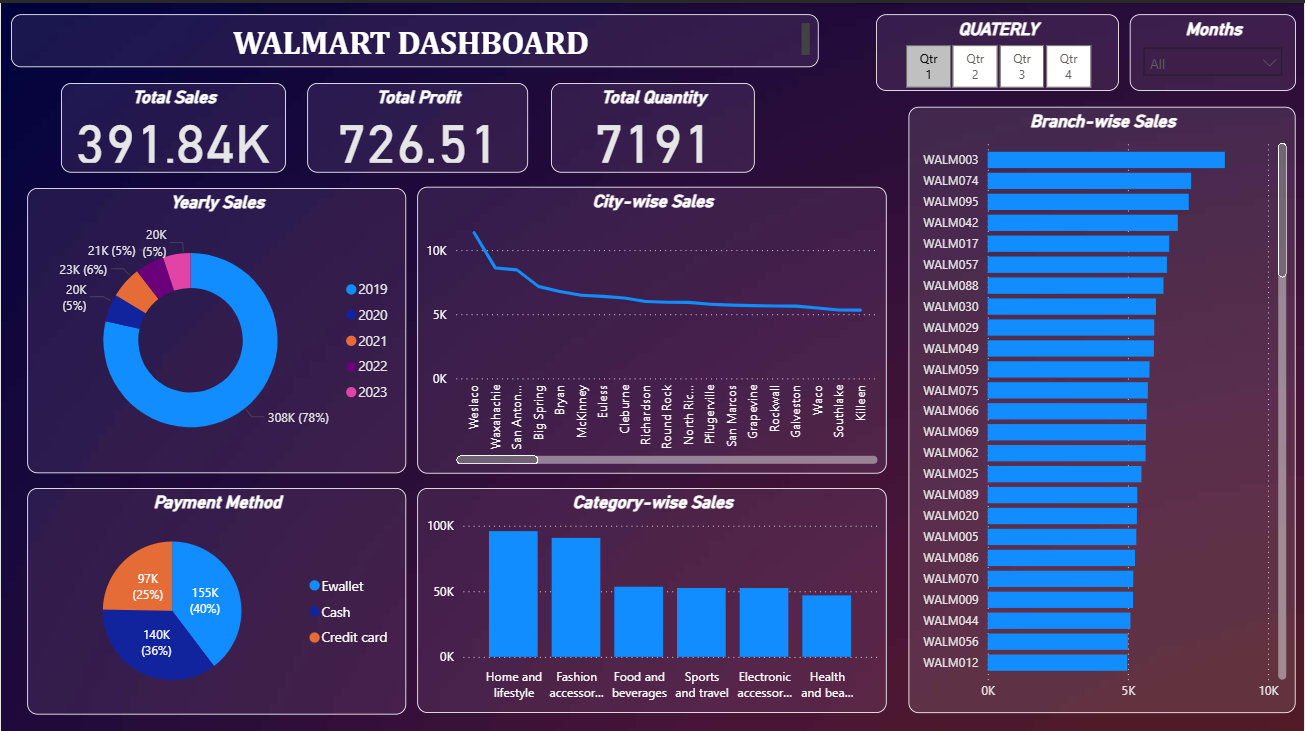

The dashboard page shown, as its layout file describes it:
{"tool":"powerbi","page":{"name":"Page 1","canvas":[1280,720],"ordinal":0},"visuals":[{"type":"textbox","box":[9.6,11,793.1,52.1],"z":0},{"type":"pieChart","title":"Payment Method","fields":{"Category":["Walmart_clean_data (3).payment_method"],"Y":["Sum(Walmart_clean_data (3).total)"]},"box":[26.1,476.2,371.9,222.3],"z":2},{"type":"clusteredColumnChart","title":"Category-wise Sales","fields":{"Category":["Walmart_clean_data (3).category"],"Y":["Sum(Walmart_clean_data (3).total)"]},"box":[408.9,476.2,461.1,220.9],"z":3},{"type":"clusteredBarChart","title":"Branch-wise Sales","fields":{"Category":["Walmart_clean_data (3).Branch"],"Y":["Sum(Walmart_clean_data (3).total)"]},"box":[890.6,101.5,380.1,595.5],"z":4},{"type":"lineChart","title":"City-wise Sales","fields":{"Y":["Sum(Walmart_clean_data (3).total)"],"Category":["Walmart_clean_data (3).City"]},"box":[408.9,179.8,461.1,281.3],"z":5},{"type":"donutChart","title":"Yearly Sales","fields":{"Y":["Sum(Walmart_clean_data (3).total)"],"Category":["Walmart_clean_data (3).date.Variation.Date Hierarchy.Year"]},"box":[26.1,181.1,371.9,279.9],"z":6},{"type":"card","title":"Total Sales","fields":{"Values":["Sum(Walmart_clean_data (3).total)"]},"box":[59,78.2,220.9,87.8],"z":7},{"type":"card","title":"Total Profit","fields":{"Values":["Sum(Walmart_clean_data (3).profit_margin)"]},"box":[300.5,78.2,216.8,87.8],"z":8},{"type":"card","title":"Total Quantity","fields":{"Values":["Sum(Walmart_clean_data (3).quantity)"]},"box":[539.3,78.2,200.3,87.8],"z":9},{"type":"slicer","title":"Months","fields":{"Values":["Walmart_clean_data (3).date.Variation.Date Hierarchy.Month"]},"box":[1107.4,11,163.3,75.5],"z":10},{"type":"slicer","title":"QUATERLY","fields":{"Values":["Walmart_clean_data (3).date.Variation.Date Hierarchy.Quarter"]},"box":[859,11,238.8,75.5],"z":11}]}

Visuals, with their boxes in screenshot pixels (x1, y1, x2, y2), scaled from the page's 1280x720 canvas onto the 1305x731 screenshot:
textbox: {"x1": 10, "y1": 11, "x2": 818, "y2": 64}
"Payment Method" pieChart: {"x1": 27, "y1": 483, "x2": 406, "y2": 709}
"Category-wise Sales" clusteredColumnChart: {"x1": 417, "y1": 483, "x2": 887, "y2": 708}
"Branch-wise Sales" clusteredBarChart: {"x1": 908, "y1": 103, "x2": 1296, "y2": 708}
"City-wise Sales" lineChart: {"x1": 417, "y1": 183, "x2": 887, "y2": 468}
"Yearly Sales" donutChart: {"x1": 27, "y1": 184, "x2": 406, "y2": 468}
"Total Sales" card: {"x1": 60, "y1": 79, "x2": 285, "y2": 169}
"Total Profit" card: {"x1": 306, "y1": 79, "x2": 527, "y2": 169}
"Total Quantity" card: {"x1": 550, "y1": 79, "x2": 754, "y2": 169}
"Months" slicer: {"x1": 1129, "y1": 11, "x2": 1296, "y2": 88}
"QUATERLY" slicer: {"x1": 876, "y1": 11, "x2": 1119, "y2": 88}
